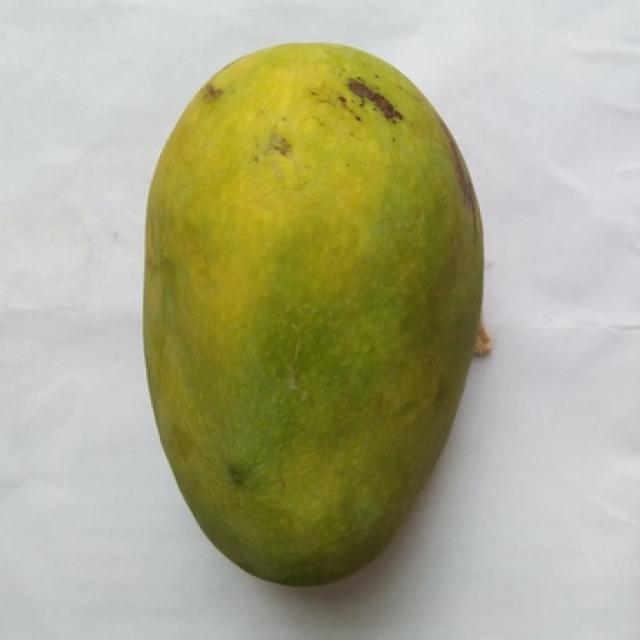Mango: (143, 44, 485, 584)
